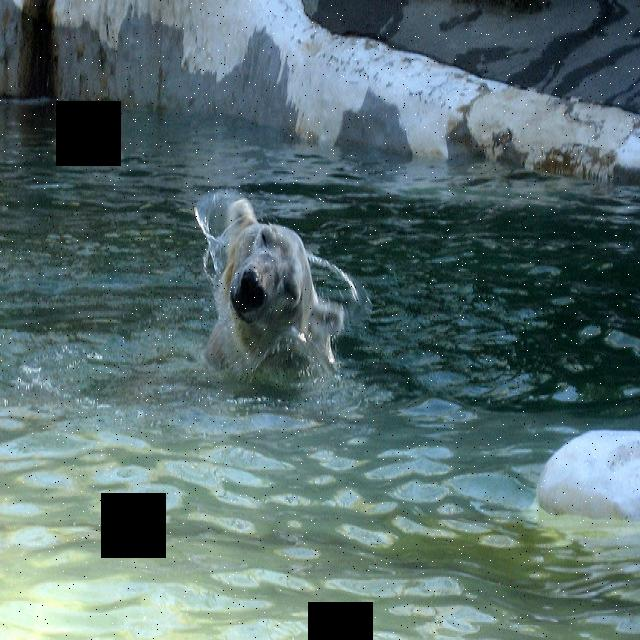Bear: (183, 187, 354, 395)
